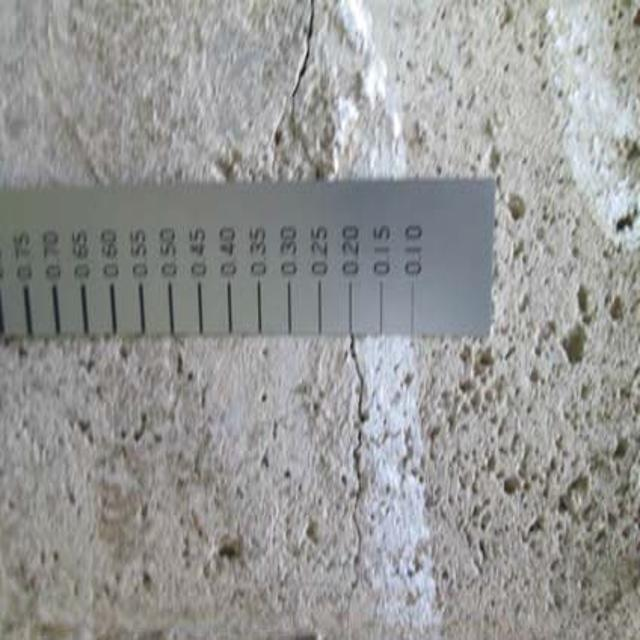crack: (326, 336, 378, 584), (286, 10, 347, 176)
